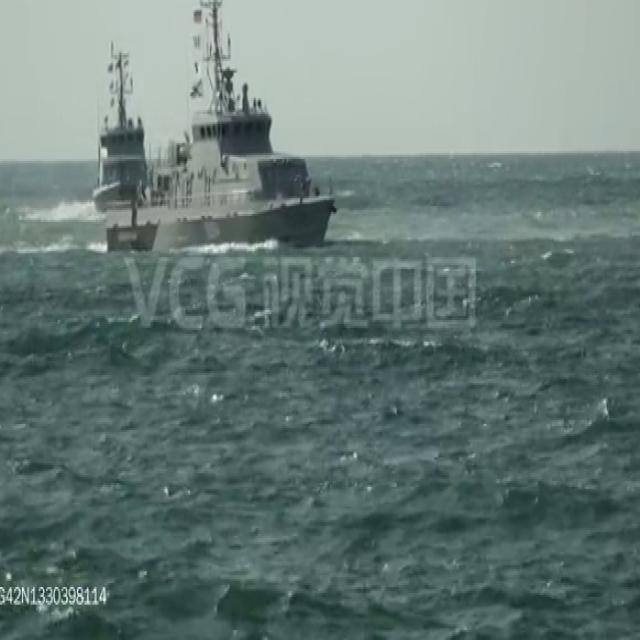houseboat: (94, 0, 329, 253), (92, 41, 150, 207)
